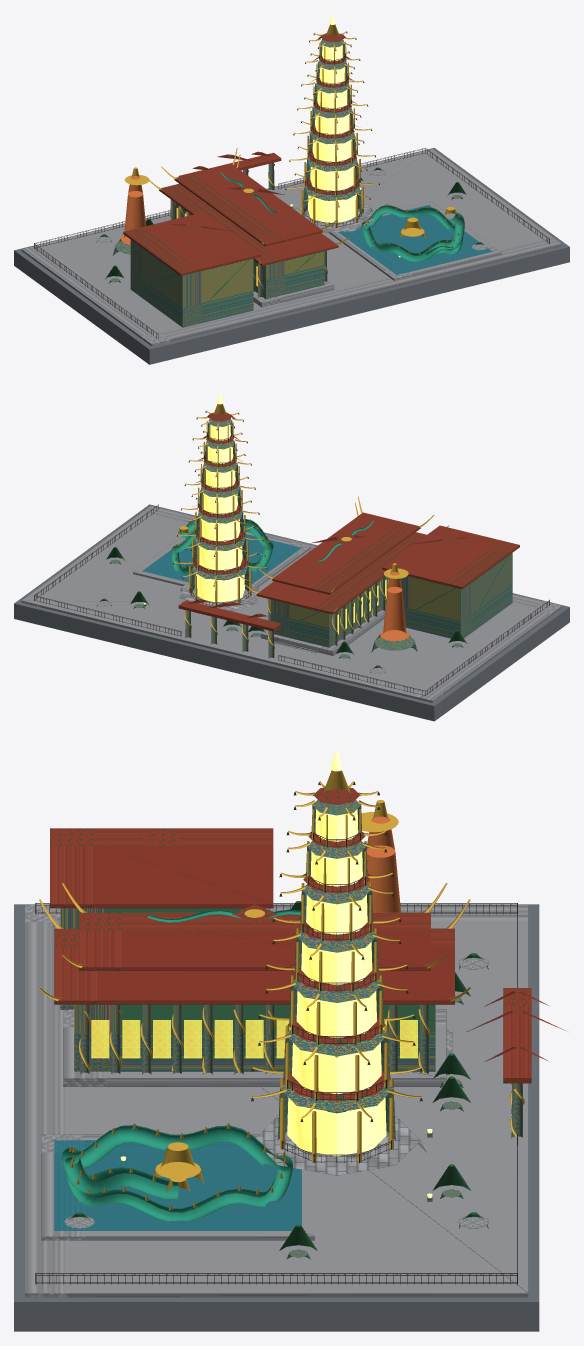
The model's file is ultra_lm_16_chua_linh_phuoc.glb.
3 renders of one model, top to bottom at view 1: azimuth 30°, elevation 25°; view 2: azimuth 150°, elevation 25°; view 3: azimuth 270°, elevation 25°, orthographic. The views are drawn at different scales.
Visible parts, largest first — view 1: PagodaCourtyard_And_Steps, PagodaCurvedRoofs_And_Eaves, PorcelainMosaic_Columns_And_Walls, FoundationSkirt_Minus3m, LinhThap_And_Sanctuary_NightLights, GoldenDragon_Spire_And_Statues, LongHoaVien_PondWater, OctagonalTower_And_Courtyard_Railings, JadeGlaze_DragonScales_And_Trim, Guanyin_600k_ImmortalFlower_Statue; view 2: PagodaCourtyard_And_Steps, PagodaCurvedRoofs_And_Eaves, PorcelainMosaic_Columns_And_Walls, FoundationSkirt_Minus3m, LinhThap_And_Sanctuary_NightLights, GoldenDragon_Spire_And_Statues, OctagonalTower_And_Courtyard_Railings, LongHoaVien_PondWater, JadeGlaze_DragonScales_And_Trim, Guanyin_600k_ImmortalFlower_Statue, BonsaiPots_And_Pines; view 3: PagodaCourtyard_And_Steps, PagodaCurvedRoofs_And_Eaves, FoundationSkirt_Minus3m, PorcelainMosaic_Columns_And_Walls, LinhThap_And_Sanctuary_NightLights, GoldenDragon_Spire_And_Statues, LongHoaVien_PondWater, JadeGlaze_DragonScales_And_Trim, OctagonalTower_And_Courtyard_Railings, Sanctuary_StainedGlass_Windows, Guanyin_600k_ImmortalFlower_Statue, BonsaiPots_And_Pines.
Boxes of the visible parts, left/top/right/bottom form: PagodaCourtyard_And_Steps: left=21, top=149, right=562, bottom=346; PagodaCurvedRoofs_And_Eaves: left=123, top=33, right=359, bottom=275; PorcelainMosaic_Columns_And_Walls: left=96, top=39, right=481, bottom=327; FoundationSkirt_Minus3m: left=14, top=148, right=569, bottom=364; LinhThap_And_Sanctuary_NightLights: left=290, top=14, right=400, bottom=257; GoldenDragon_Spire_And_Statues: left=124, top=24, right=460, bottom=289; LongHoaVien_PondWater: left=338, top=205, right=491, bottom=274; OctagonalTower_And_Courtyard_Railings: left=34, top=53, right=549, bottom=339; JadeGlaze_DragonScales_And_Trim: left=221, top=172, right=464, bottom=262; Guanyin_600k_ImmortalFlower_Statue: left=118, top=176, right=145, bottom=244; PagodaCourtyard_And_Steps: left=21, top=505, right=562, bottom=702; PagodaCurvedRoofs_And_Eaves: left=178, top=412, right=519, bottom=631; PorcelainMosaic_Columns_And_Walls: left=96, top=419, right=512, bottom=673; FoundationSkirt_Minus3m: left=14, top=504, right=569, bottom=721; LinhThap_And_Sanctuary_NightLights: left=143, top=393, right=261, bottom=604; GoldenDragon_Spire_And_Statues: left=173, top=404, right=448, bottom=655; OctagonalTower_And_Courtyard_Railings: left=34, top=432, right=549, bottom=696; LongHoaVien_PondWater: left=142, top=534, right=301, bottom=583; JadeGlaze_DragonScales_And_Trim: left=171, top=517, right=374, bottom=574; Guanyin_600k_ImmortalFlower_Statue: left=376, top=572, right=411, bottom=641; BonsaiPots_And_Pines: left=99, top=547, right=466, bottom=668; PagodaCourtyard_And_Steps: left=25, top=905, right=528, bottom=1297; PagodaCurvedRoofs_And_Eaves: left=50, top=787, right=565, bottom=1101; FoundationSkirt_Minus3m: left=14, top=904, right=539, bottom=1331; PorcelainMosaic_Columns_And_Walls: left=60, top=800, right=522, bottom=1258; LinhThap_And_Sanctuary_NightLights: left=120, top=750, right=432, bottom=1198; GoldenDragon_Spire_And_Statues: left=39, top=770, right=524, bottom=1210; LongHoaVien_PondWater: left=54, top=1140, right=301, bottom=1230; JadeGlaze_DragonScales_And_Trim: left=61, top=909, right=300, bottom=1222; OctagonalTower_And_Courtyard_Railings: left=35, top=832, right=517, bottom=1284; Sanctuary_StainedGlass_Windows: left=91, top=1020, right=417, bottom=1058; Guanyin_600k_ImmortalFlower_Statue: left=366, top=816, right=400, bottom=912; BonsaiPots_And_Pines: left=69, top=901, right=483, bottom=1250.
Size of the model in its own units: 86 by 43.9 by 50.8.
Materials: 13 (4 with a texture image).
